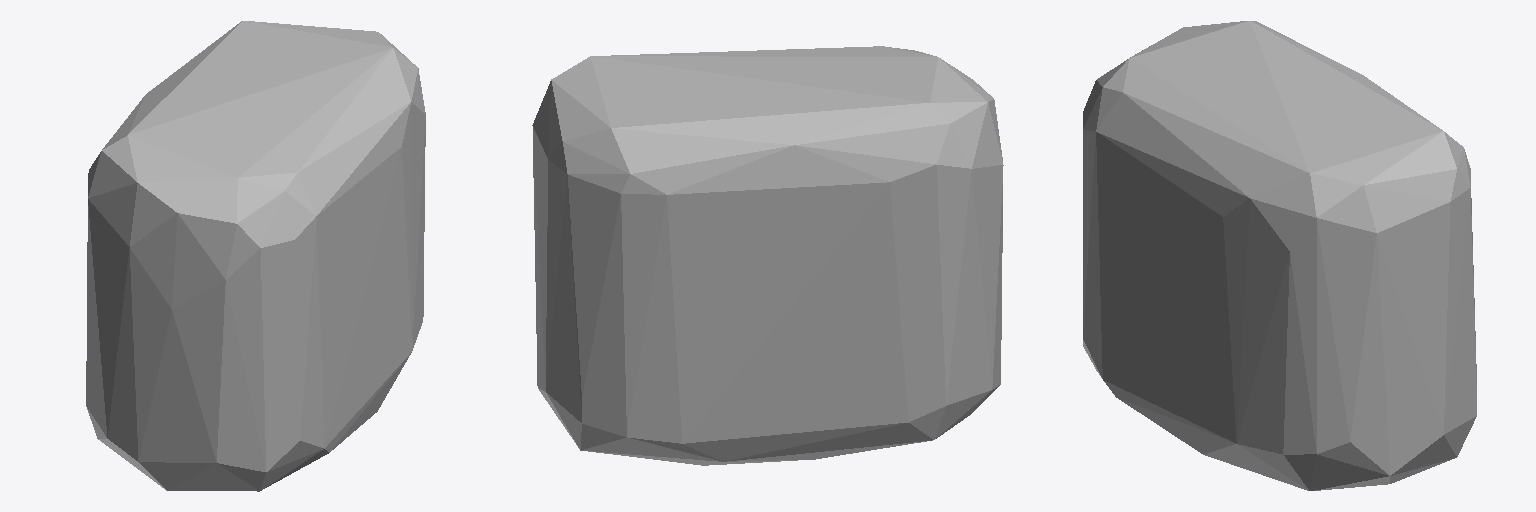
robot.urdf — root:
<robot name="root">
  <link name="link_ycb~010_potted_meat_can_convex_piece_0">
    <inertial>
      <origin xyz="0 0 0" rpy="0 0 0"/>
      <mass value="1.56E+00"/>
      <inertia ixx="1.51E-03" ixy="-3.73E-04" ixz="-1.19E-06" iyy="1.72E-03" iyz="-9.56E-06" izz="1.54E-03"/>
    </inertial>
    <visual>
      <origin xyz="0 0 0" rpy="0 0 0"/>
      <geometry>
        <mesh filename="ycb~010_potted_meat_can_convex_piece_0.obj" scale="1.0000E+00 1.0000E+00 1.0000E+00"/>
      </geometry>
      <material name="">
        <color rgba="7.50E-01 7.50E-01 7.50E-01 1"/>
      </material>
    </visual>
    <collision>
      <origin xyz="0 0 0" rpy="0 0 0"/>
      <geometry>
        <mesh filename="ycb~010_potted_meat_can_convex_piece_0.obj" scale="1.0000E+00 1.0000E+00 1.0000E+00"/>
      </geometry>
    </collision>
  </link>
</robot>

--- Render facts (derived) ---
Views: 3 orthographic renders of the robot side by side, from view 1: azimuth 30°, elevation 25°; view 2: azimuth 150°, elevation 25°; view 3: azimuth 270°, elevation 25°.
Robot: root — 1 links, 0 joints (none); root link link_ycb~010_potted_meat_can_convex_piece_0; default pose: every joint at zero.
Links seen in each view (by area): view 1: link_ycb~010_potted_meat_can_convex_piece_0; view 2: link_ycb~010_potted_meat_can_convex_piece_0; view 3: link_ycb~010_potted_meat_can_convex_piece_0.
Link boxes in pixels (bbox=[...]): link_ycb~010_potted_meat_can_convex_piece_0: bbox=[86, 21, 425, 491]; link_ycb~010_potted_meat_can_convex_piece_0: bbox=[532, 46, 1003, 465]; link_ycb~010_potted_meat_can_convex_piece_0: bbox=[1083, 21, 1476, 490].
Size in the robot's own frame: 0.0983 by 0.0906 by 0.086 metres.
1 mesh visuals loaded from 1 distinct referenced files (1 OBJ).